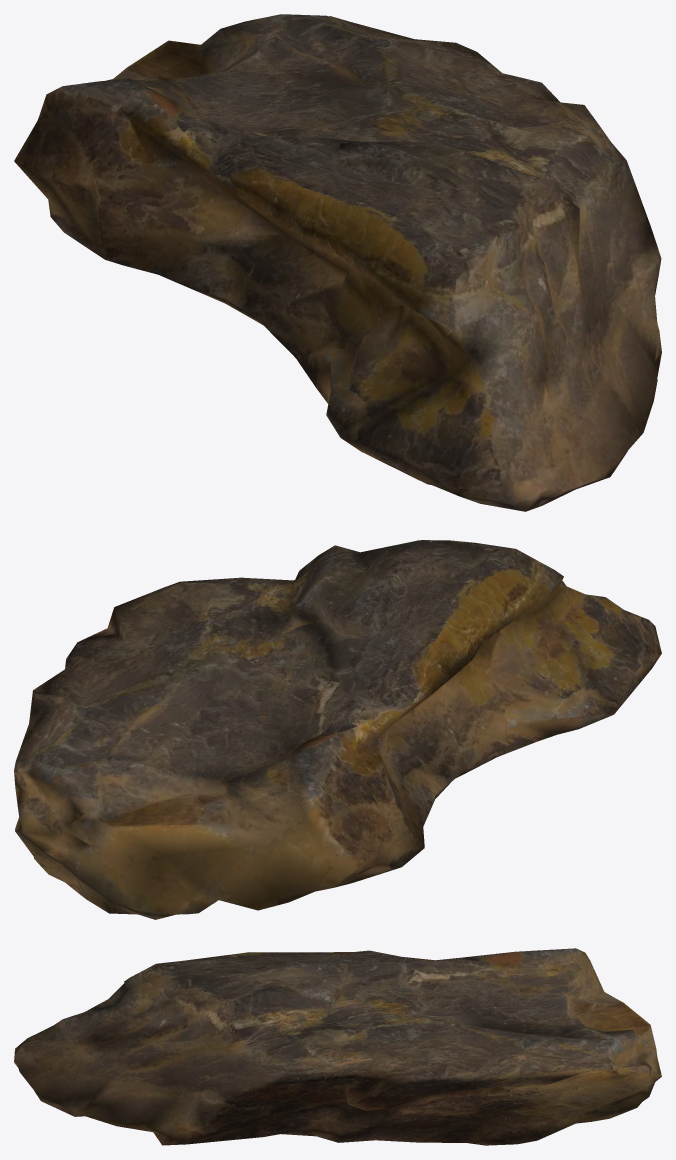
The model's file is rock_09.glb.
3 views of the same model, one above another, from view 1: azimuth 30°, elevation 25°; view 2: azimuth 150°, elevation 25°; view 3: azimuth 270°, elevation 25° (orthographic). The views are drawn at different scales.
Parts seen in each view (by area): view 1: rock_09_LOD0; view 2: rock_09_LOD0; view 3: rock_09_LOD0.
Boxes of the visible parts, box(x1,y1,x2,y2) form: rock_09_LOD0: box(14, 14, 661, 511); rock_09_LOD0: box(14, 540, 661, 919); rock_09_LOD0: box(14, 948, 661, 1145).
Bounding box in the file's own units: 0.0738 × 0.0326 × 0.1442.
1 material, 1 textured.
